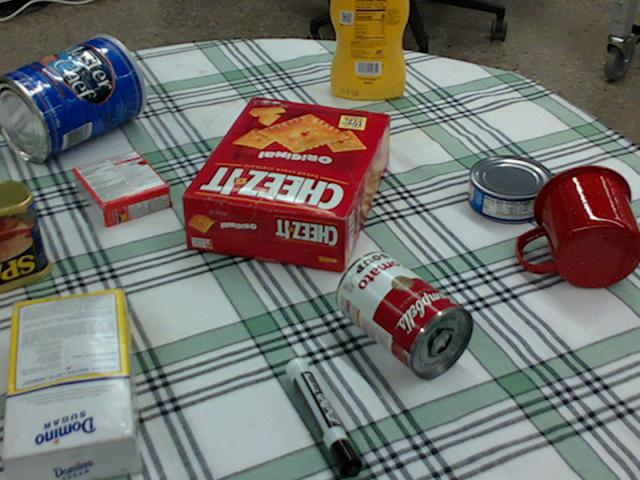cracker_box: (179, 96, 391, 272)
gelatin_box: (73, 149, 171, 228)
large_marker: (286, 358, 361, 479)
master_chef_can: (0, 35, 146, 164)
mug: (517, 164, 639, 288)
mustard_bottle: (330, 0, 409, 99)
potted_meat_can: (0, 178, 52, 291)
sugar_box: (0, 289, 138, 479)
tomato_soup_can: (335, 249, 473, 378)
tuna_fish_can: (469, 154, 553, 223)
